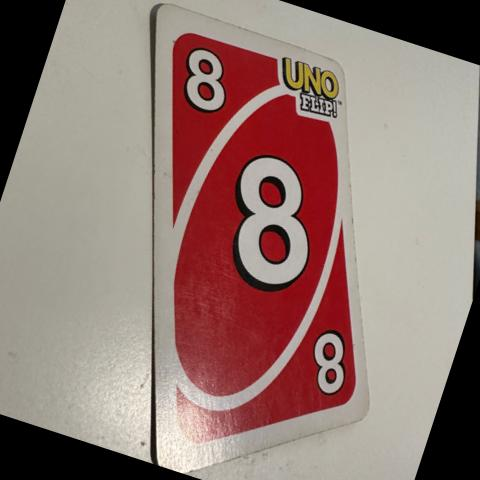lred-8: (157, 22, 263, 139)
